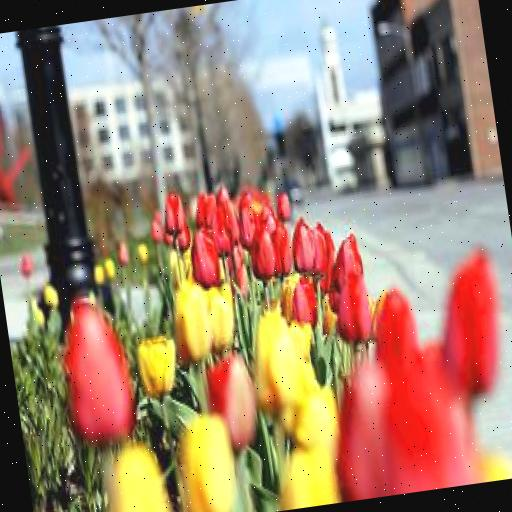tulip: (56, 293, 138, 440), (169, 279, 213, 360), (135, 332, 181, 396), (189, 222, 222, 282), (288, 215, 319, 271), (249, 226, 278, 279)
